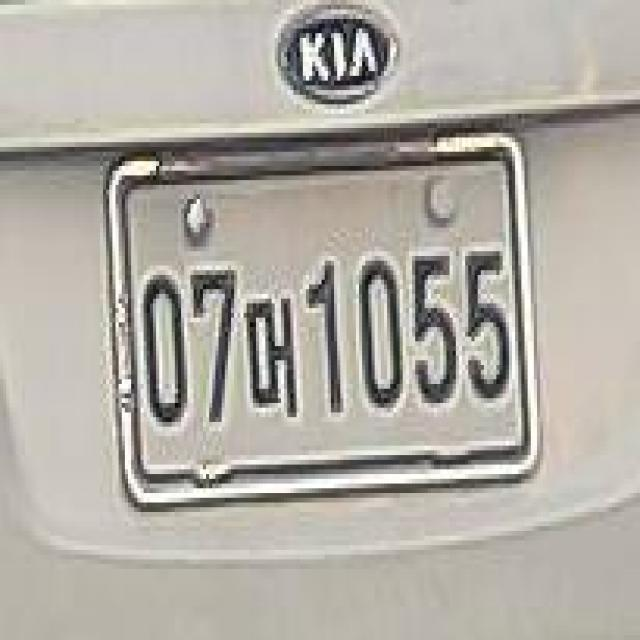illegal_plate: (108, 129, 543, 513)
